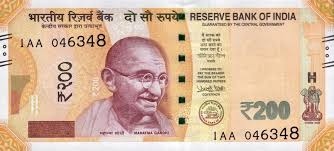twoHundred: (13, 29, 311, 128)
